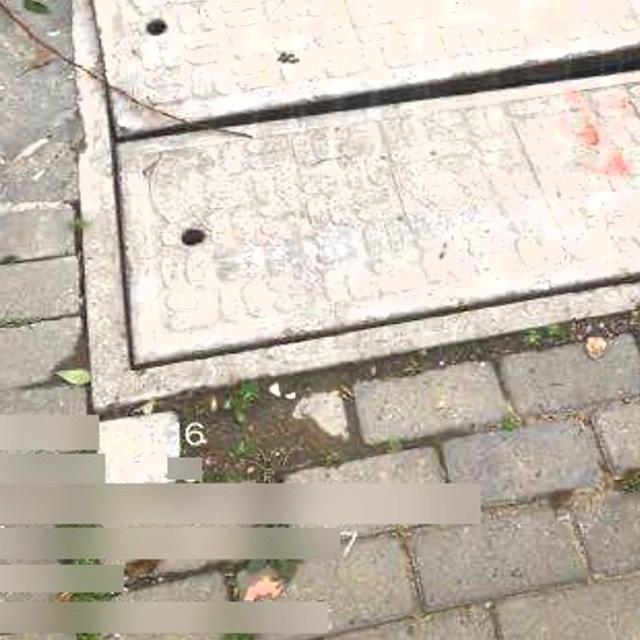uncovered: (61, 0, 640, 409)
